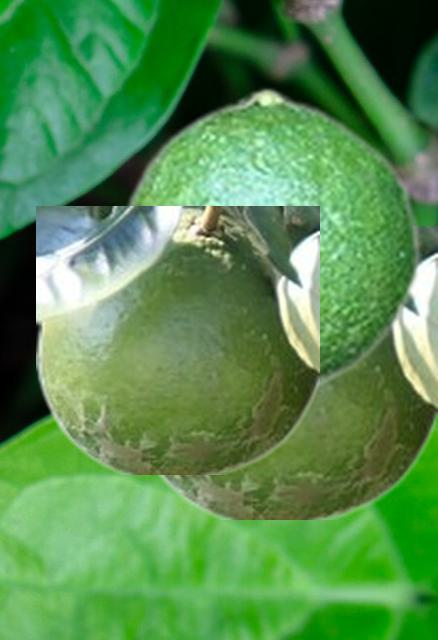dalandan: (120, 86, 421, 395), (151, 226, 436, 518), (36, 206, 318, 473)
